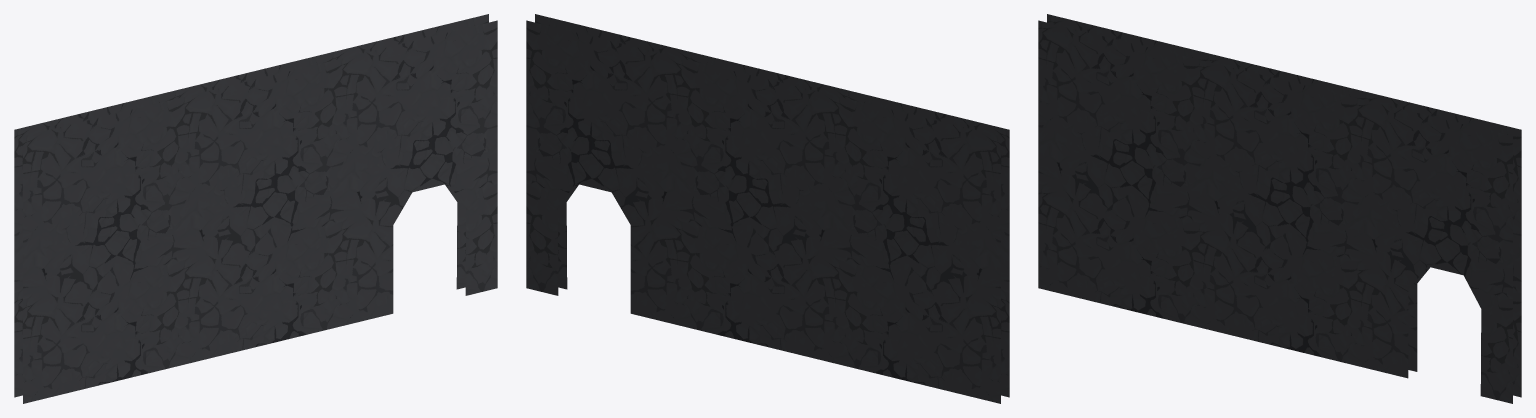
The model's file is Mur_B_Porte_Catacombes.FBX.
3 renders of one model, left to right at view 1: azimuth 30°, elevation 25°; view 2: azimuth 150°, elevation 25°; view 3: azimuth 330°, elevation 25°, orthographic.
Visible parts, largest first — view 1: Mur_B_Porte_Catacombes; view 2: Mur_B_Porte_Catacombes; view 3: Mur_B_Porte_Catacombes.
Part boxes in pixels (box(x1,y1,x2,y2)): Mur_B_Porte_Catacombes: box(14, 14, 497, 403); Mur_B_Porte_Catacombes: box(526, 14, 1009, 403); Mur_B_Porte_Catacombes: box(1038, 14, 1521, 403).
Bounding box in the file's own units: 1020 × 550 × 32.82.
Materials: 1 (1 with a texture image).
